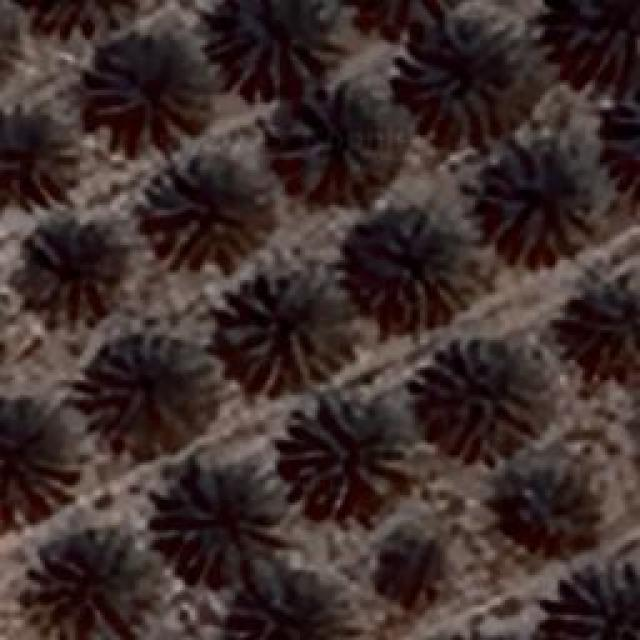PalmTree: (70, 16, 418, 576), (480, 130, 598, 260), (160, 470, 292, 585), (28, 534, 170, 638), (360, 210, 488, 325), (86, 338, 214, 452), (92, 42, 226, 148), (220, 270, 338, 390), (418, 338, 532, 460), (272, 80, 380, 205), (145, 150, 260, 265), (282, 400, 410, 500), (395, 14, 500, 128), (20, 218, 128, 316), (227, 0, 340, 92), (502, 469, 610, 559), (0, 396, 70, 522), (0, 102, 75, 200), (552, 560, 638, 638), (570, 291, 640, 379), (237, 585, 335, 640), (555, 0, 635, 65), (613, 74, 640, 194), (342, 0, 466, 26), (0, 0, 16, 91)
